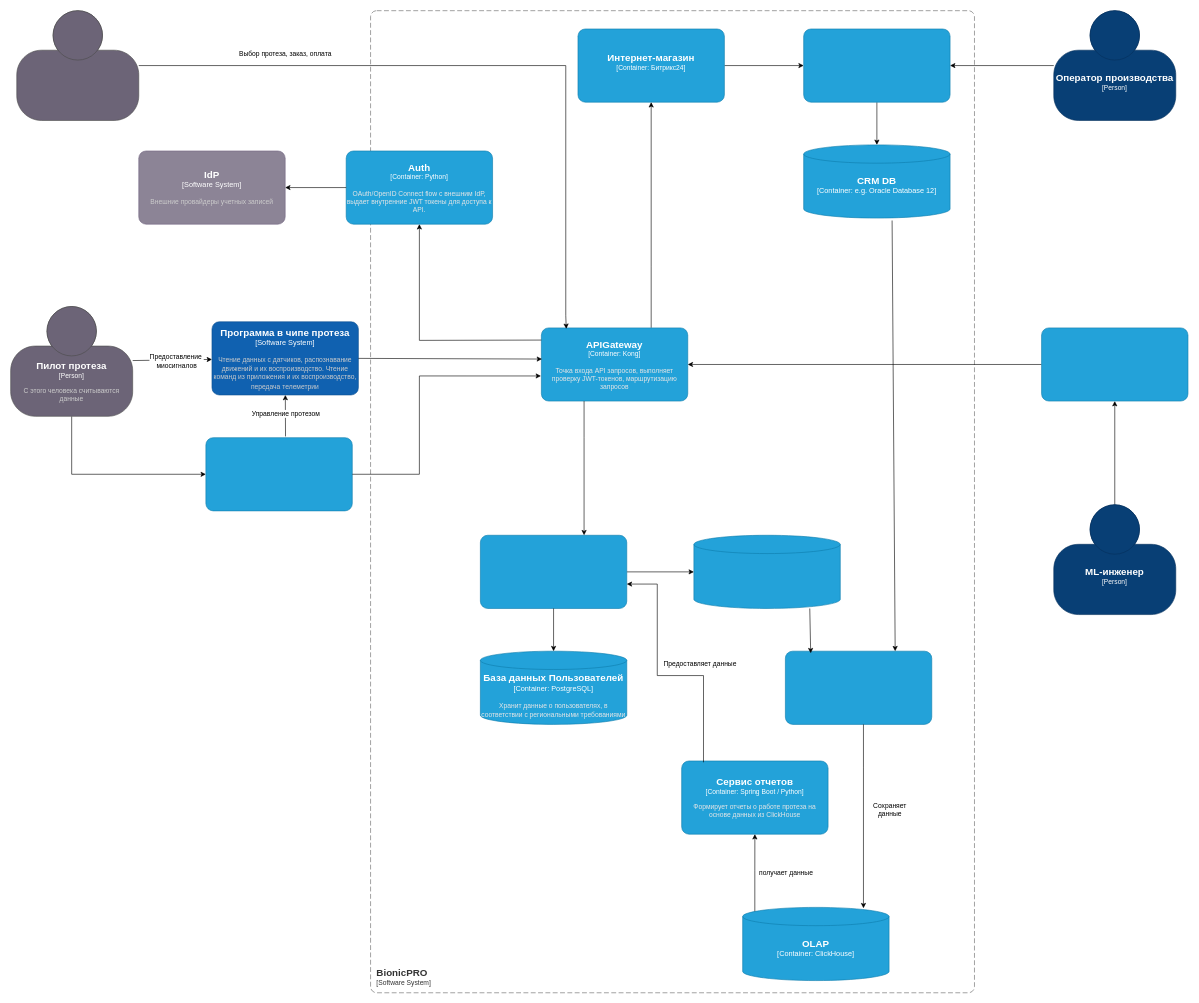
Some shapes in this 1199 by 1003 pixel diagram are drawn without their labels. The box of each missing label's shape, as (x1, y1, x2, y2) in pixels:
API [Container: e.g. SpringBoot, ElasticSearch, etc.]: (480, 535, 627, 608)
cli tool [Container: e.g. SpringBoot, ElasticSearch, etc.]: (1041, 327, 1188, 401)
CRM [Container: Битрикс24]: (803, 28, 950, 102)
ETL [Container: Apache Airflow]: (785, 651, 932, 724)
База данных Телеметрии [Container: PostgreSQL]: (693, 535, 840, 608)
Покупатель протеза [Person]: (16, 10, 139, 120)
Приложение для донастройки протеза [Container: iOD, Android]: (205, 437, 352, 511)
